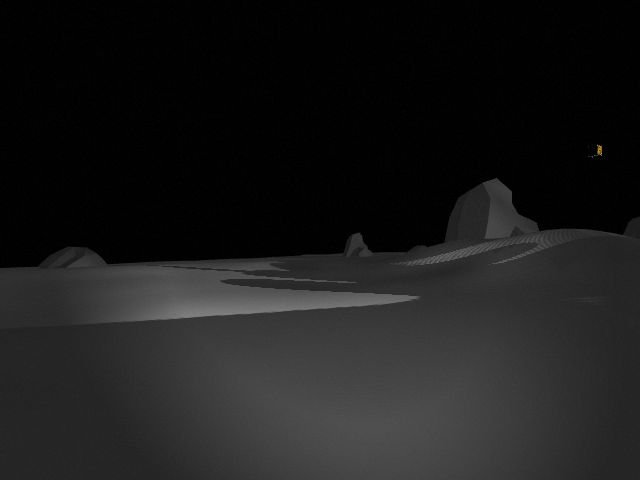cubesat: (587, 143, 606, 160)
